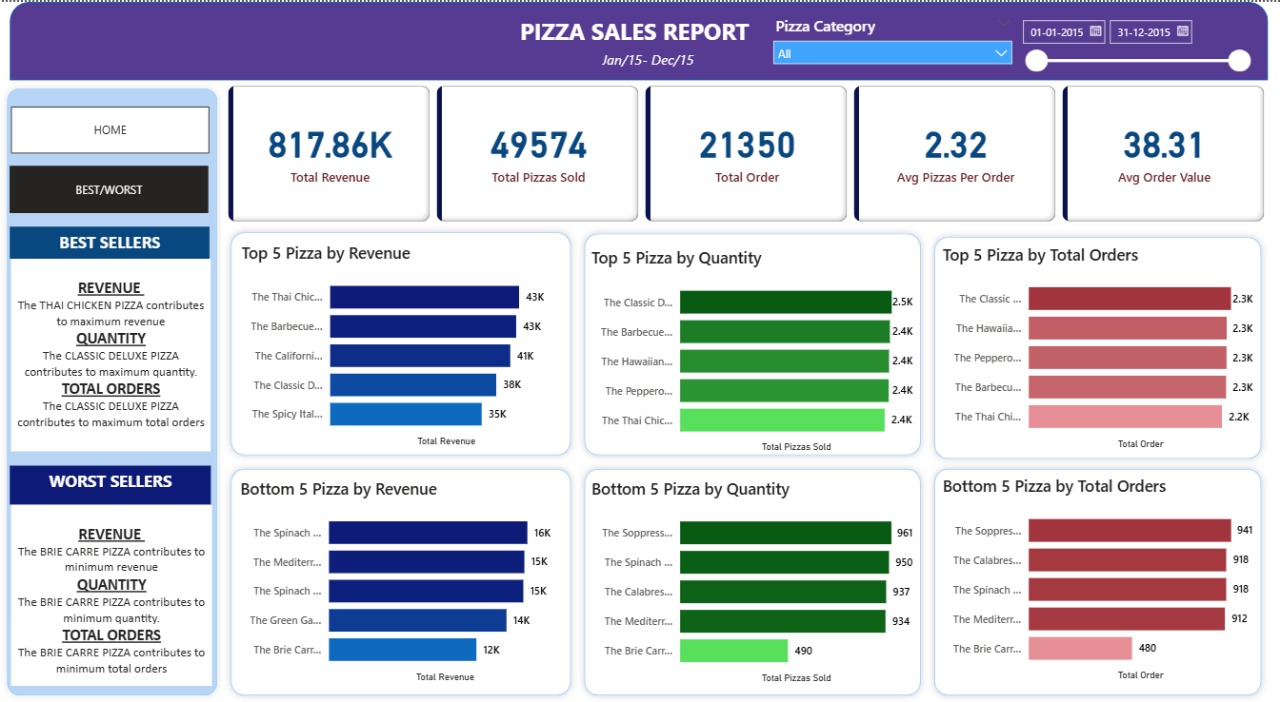

What the dashboard file says about the page in this screenshot:
{"tool":"powerbi","page":{"name":"BEST/WORST ","canvas":[1500,820],"ordinal":1},"visuals":[{"type":"cardVisual","fields":{"Data":["pizza_sales_excel_file_main.Total Revenue","pizza_sales_excel_file_main.Total Pizzas Sold","pizza_sales_excel_file_main.Total Order","pizza_sales_excel_file_main.Avg Pizzas Per Order","pizza_sales_excel_file_main.Avg Order Value"]},"box":[263.2,93.3,1225.5,169.9],"z":0},{"type":"shape","box":[12.5,0,1472.1,91.9],"z":1000},{"type":"textbox","box":[604.6,11.3,291.1,51.5],"z":2000},{"type":"textbox","box":[701.1,51.5,133.5,61.1],"z":3000},{"type":"shape","box":[263.2,261.8,413.6,277.1],"z":4000},{"type":"shape","box":[1.4,93.3,261.8,727],"z":5000},{"type":"textbox","box":[12.5,263.2,234,37.6],"z":6000},{"type":"textbox","box":[13.9,300.8,234,225.6],"z":7000},{"type":"textbox","box":[12.5,543.1,235.4,46],"z":8000},{"type":"textbox","box":[13.9,589.1,235.4,211.7],"z":9000},{"type":"slicer","fields":{"Values":["pizza_sales_excel_file_main.pizza_category"]},"box":[895.5,11.1,299.4,71],"z":10000},{"type":"slicer","fields":{"Values":["pizza_sales_excel_file_main.order_date"]},"box":[1185.2,11.1,286.9,80.8],"z":11000},{"type":"shape","box":[676.8,539,409.4,281.3],"z":12000},{"type":"shape","box":[676.8,263.2,409.4,275.7],"z":13000},{"type":"shape","box":[263.2,539,413.6,281.3],"z":14000},{"type":"shape","box":[1086.3,267.4,398.3,275.7],"z":15000},{"type":"shape","box":[1086.3,539,398.3,281.3],"z":16000},{"type":"barChart","title":"Top 5 Pizza by Revenue","fields":{"Category":["pizza_sales_excel_file_main.pizza_name"],"Y":["pizza_sales_excel_file_main.Total Revenue"]},"box":[278.2,281.4,385.9,244.4],"z":17000},{"type":"barChart","title":"Bottom 5 Pizza by Revenue","fields":{"Category":["pizza_sales_excel_file_main.pizza_name"],"Y":["pizza_sales_excel_file_main.Total Revenue"]},"box":[276.6,556.4,385.9,244.4],"z":18000},{"type":"barChart","title":"Top 5 Pizza by Quantity","fields":{"Category":["pizza_sales_excel_file_main.pizza_name"],"Y":["pizza_sales_excel_file_main.Total Pizzas Sold"]},"box":[688.3,286.2,385.9,246],"z":19000},{"type":"barChart","title":"Bottom 5 Pizza by Quantity","fields":{"Category":["pizza_sales_excel_file_main.pizza_name"],"Y":["pizza_sales_excel_file_main.Total Pizzas Sold"]},"box":[688.3,556.4,385.9,246],"z":20000},{"type":"barChart","title":"Top 5 Pizza by Total Orders","fields":{"Category":["pizza_sales_excel_file_main.pizza_name"],"Y":["pizza_sales_excel_file_main.Total Order"]},"box":[1098.3,283,373.1,246],"z":21000},{"type":"barChart","title":"Bottom 5 Pizza by Total Orders","fields":{"Category":["pizza_sales_excel_file_main.pizza_name"],"Y":["pizza_sales_excel_file_main.Total Order"]},"box":[1098.3,554.8,373.1,246],"z":22000},{"type":"pageNavigator","box":[12.5,192.2,232.6,55.7],"z":22001},{"type":"pageNavigator","box":[13.9,122.6,232.6,55.7],"z":22002}]}

Visuals, with their boxes in screenshot pixels (x1, y1, x2, y2), scaled from the page's 1500x820 canvas onto the 1280x702 screenshot:
cardVisual - pizza_sales_excel_file_main.Total Revenue x pizza_sales_excel_file_main.Total Pizzas Sold: (225, 80, 1270, 225)
shape: (11, 0, 1267, 79)
textbox: (516, 10, 764, 54)
textbox: (598, 44, 712, 96)
shape: (225, 224, 578, 461)
shape: (1, 80, 225, 701)
textbox: (11, 225, 210, 258)
textbox: (12, 258, 212, 451)
textbox: (11, 465, 212, 504)
textbox: (12, 504, 213, 686)
slicer - pizza_sales_excel_file_main.pizza_category: (764, 10, 1020, 70)
slicer - pizza_sales_excel_file_main.order_date: (1011, 10, 1256, 79)
shape: (578, 461, 927, 701)
shape: (578, 225, 927, 461)
shape: (225, 461, 578, 701)
shape: (927, 229, 1267, 465)
shape: (927, 461, 1267, 701)
"Top 5 Pizza by Revenue" barChart: (237, 241, 567, 450)
"Bottom 5 Pizza by Revenue" barChart: (236, 476, 565, 686)
"Top 5 Pizza by Quantity" barChart: (587, 245, 917, 456)
"Bottom 5 Pizza by Quantity" barChart: (587, 476, 917, 687)
"Top 5 Pizza by Total Orders" barChart: (937, 242, 1256, 453)
"Bottom 5 Pizza by Total Orders" barChart: (937, 475, 1256, 686)
pageNavigator: (11, 165, 209, 212)
pageNavigator: (12, 105, 210, 153)
